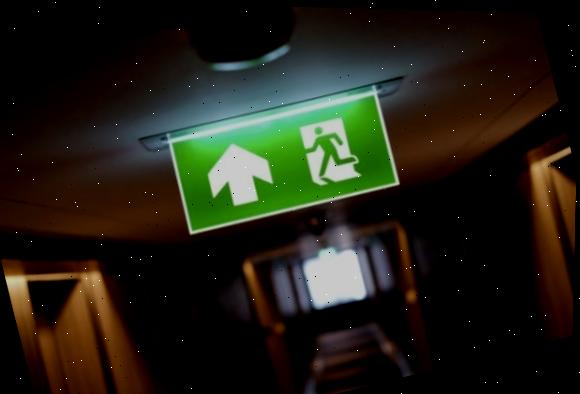emergency_exit: (165, 84, 401, 236)
